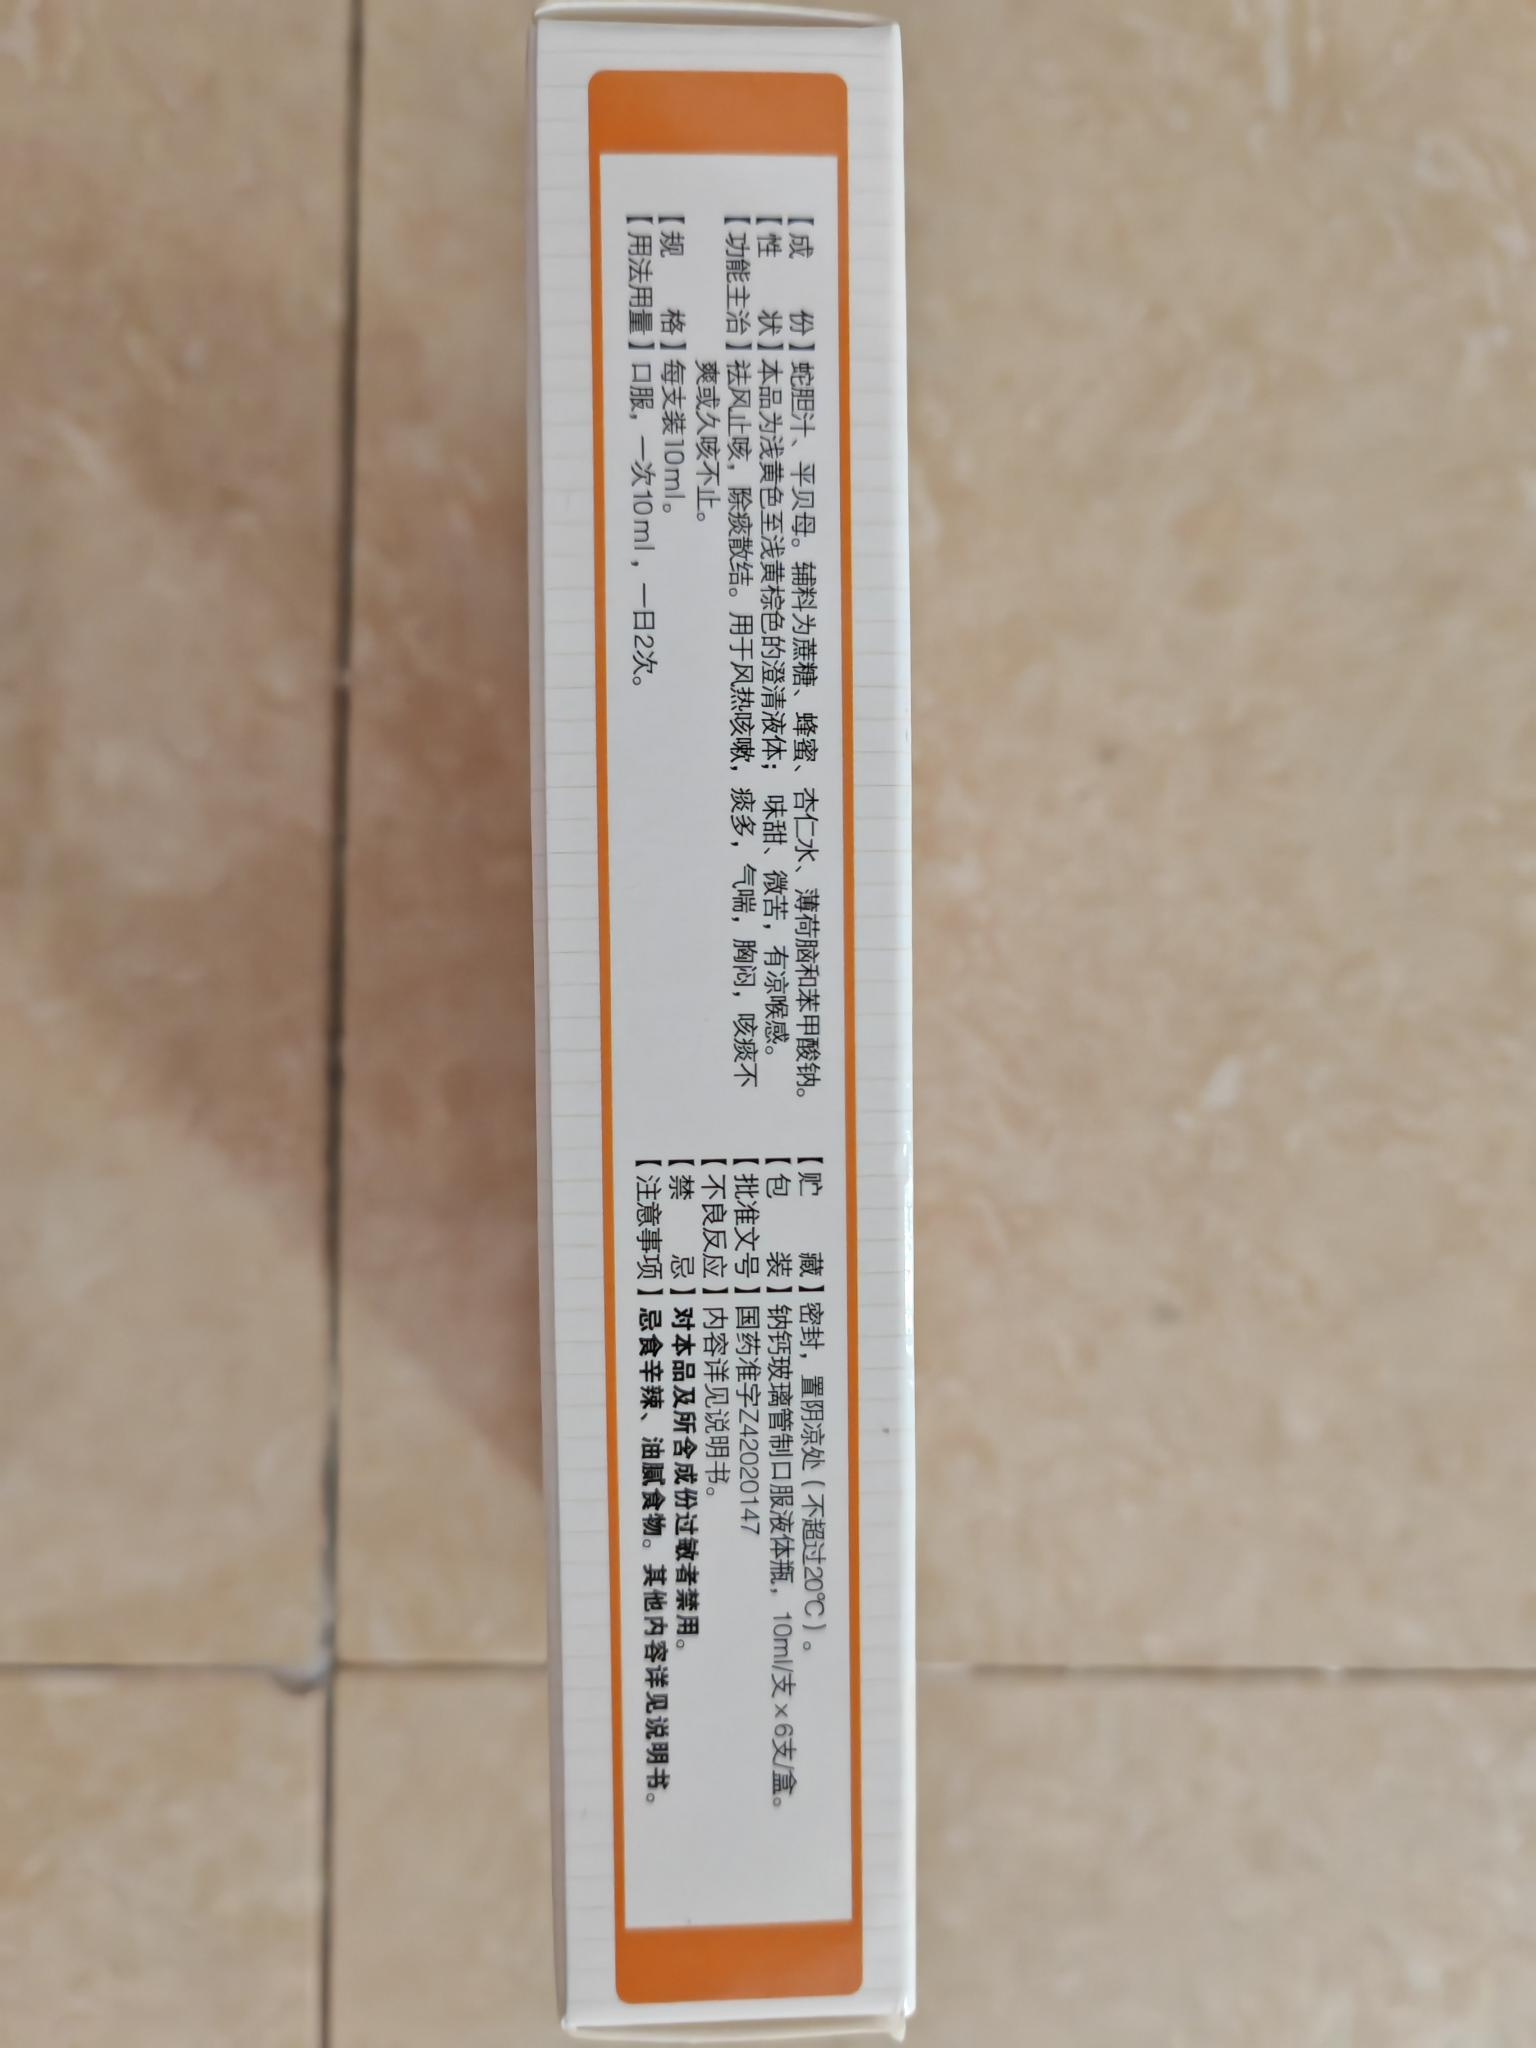Medicine5: (481, 5, 942, 2046)
